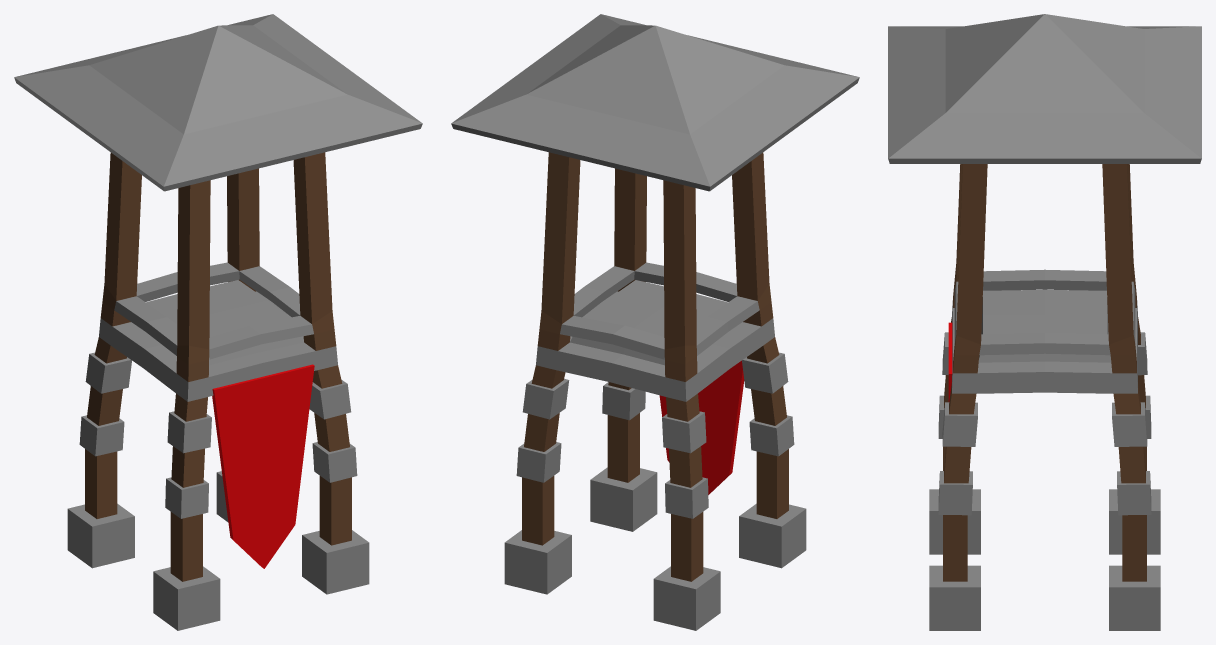
The model's file is ArcherTower2Enemy.fbx.
3 renders of one model, left to right at view 1: azimuth 30°, elevation 25°; view 2: azimuth 150°, elevation 25°; view 3: azimuth 270°, elevation 25°, orthographic. The views are drawn at different scales.
Parts seen in each view (by area): view 1: Tower2, Flag; view 2: Tower2, Flag; view 3: Tower2.
Boxes of the visible parts, box(x1,y1,x2,y2) form: Tower2: box(14, 14, 422, 630); Flag: box(212, 364, 314, 568); Tower2: box(451, 14, 859, 630); Flag: box(659, 360, 744, 494); Tower2: box(888, 14, 1201, 630).
Size of the model in its own units: 2.25 by 4.5 by 2.25.
